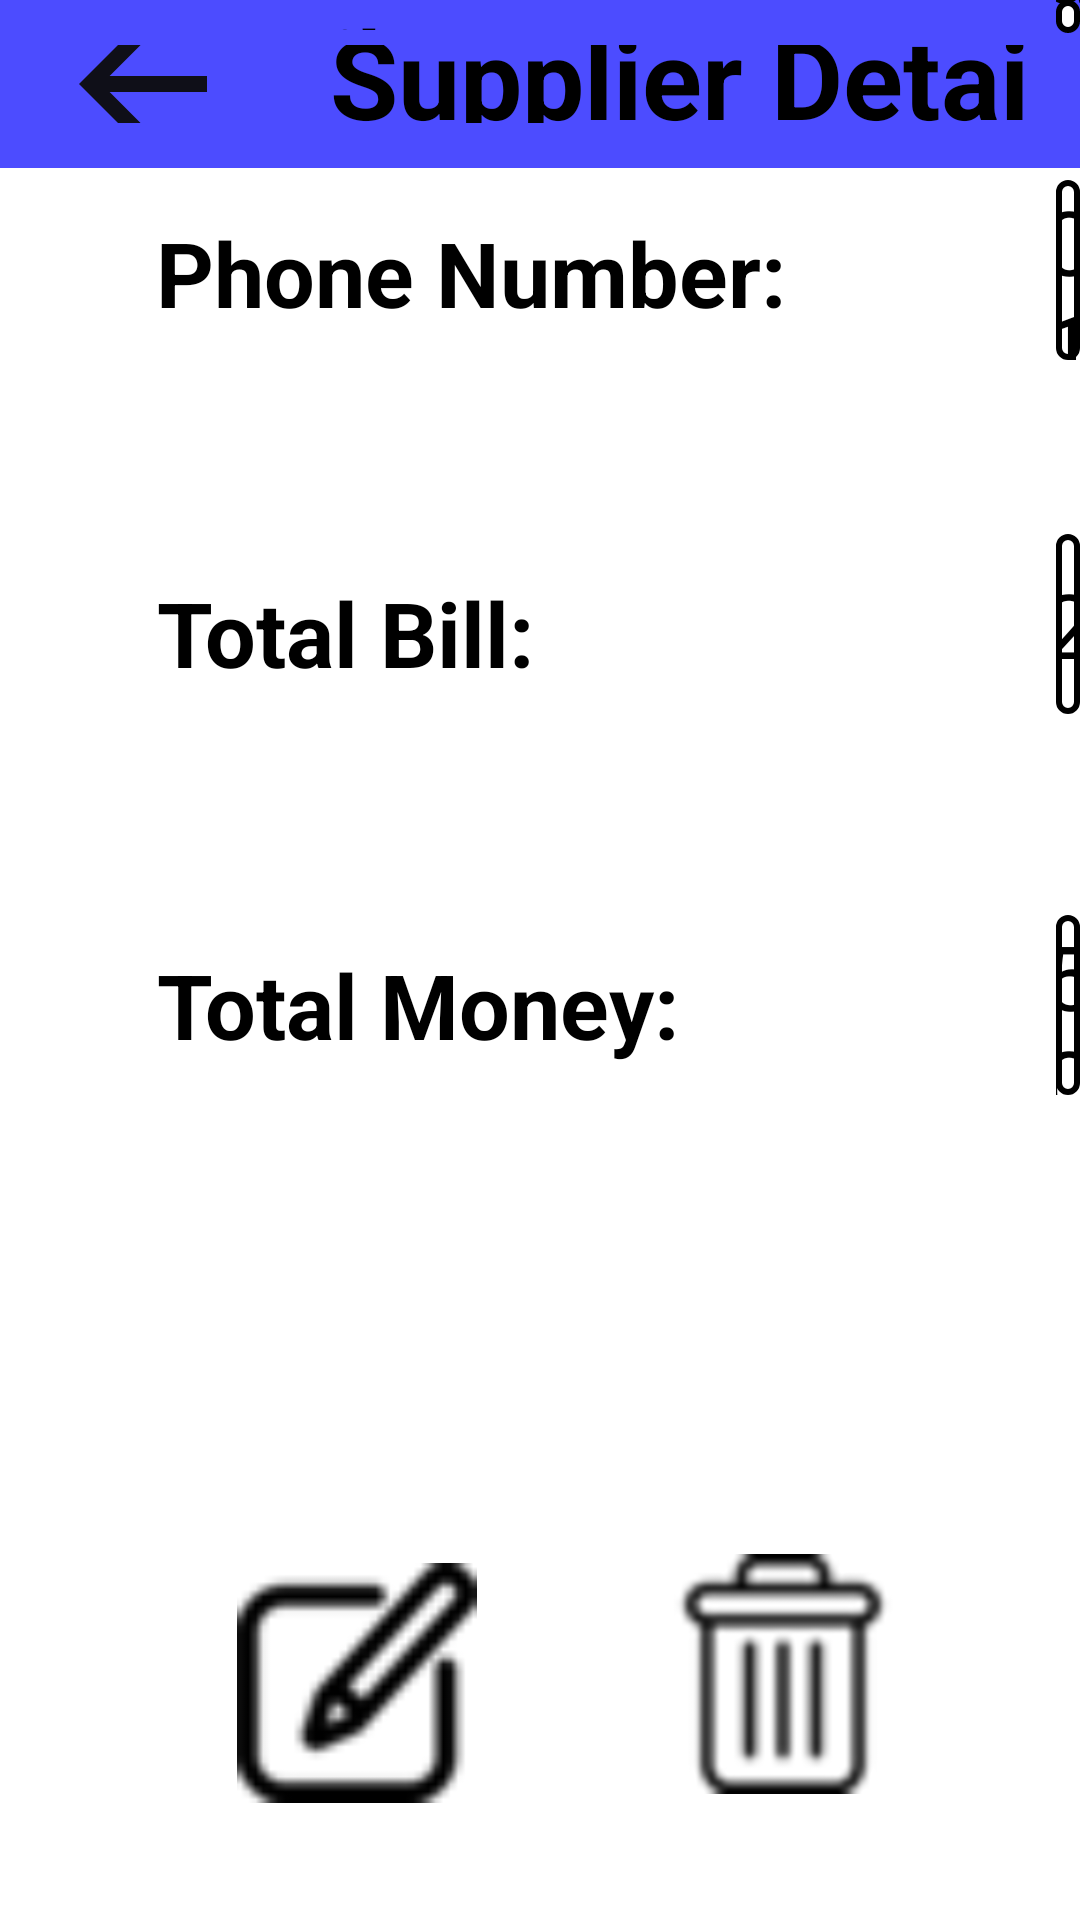

Icon click points for this 1080*1920 phone screenshot, format [x,y]:
delete product: [783,1674]
